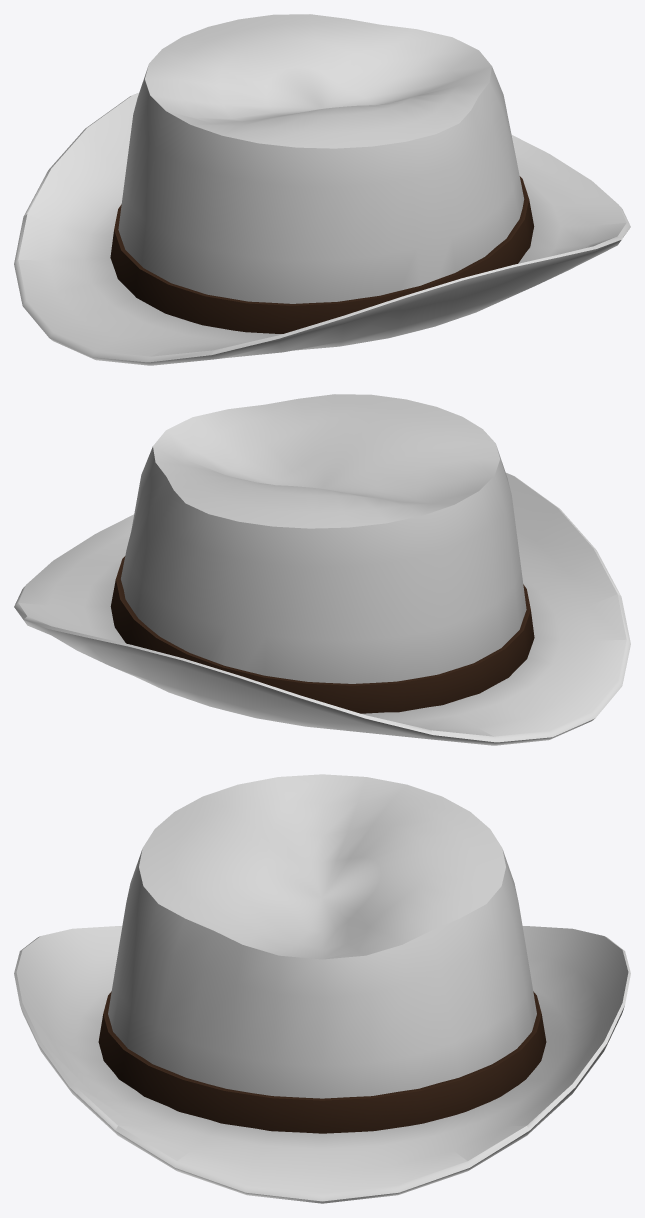
File: acc_cowboy.glb
The picture shows the model from 3 angles, top to bottom: view 1: azimuth 30°, elevation 25°; view 2: azimuth 150°, elevation 25°; view 3: azimuth 270°, elevation 25°; orthographic projection. The views are drawn at different scales.
Visible parts, largest first — view 1: acc_cowboy; view 2: acc_cowboy; view 3: acc_cowboy.
Boxes of the visible parts, box(x1,y1,x2,y2) form: acc_cowboy: box(14, 14, 630, 365); acc_cowboy: box(14, 394, 630, 745); acc_cowboy: box(14, 774, 630, 1203).
Size of the model in its own units: 0.8717 by 0.309 by 0.7764.
